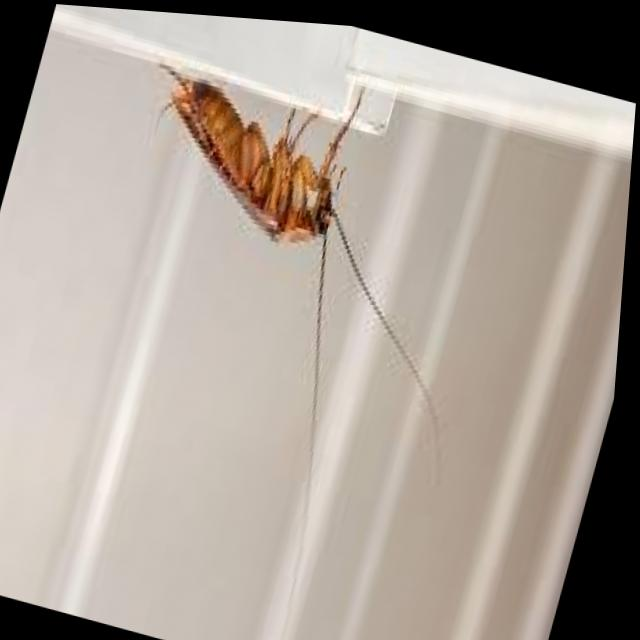Cockroach: (35, 18, 531, 640)
